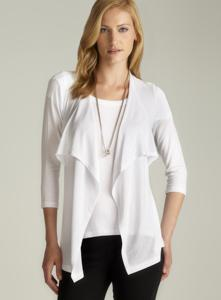C_cardigan sweater: (32, 64, 184, 279)
